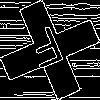F: (25, 25, 71, 79)
